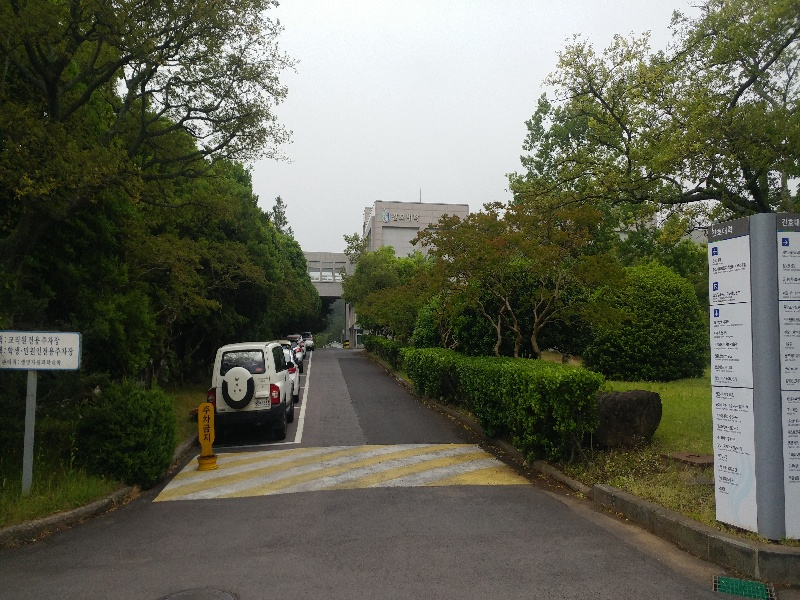College of Nursing: (353, 202, 476, 337), (371, 199, 472, 248)
